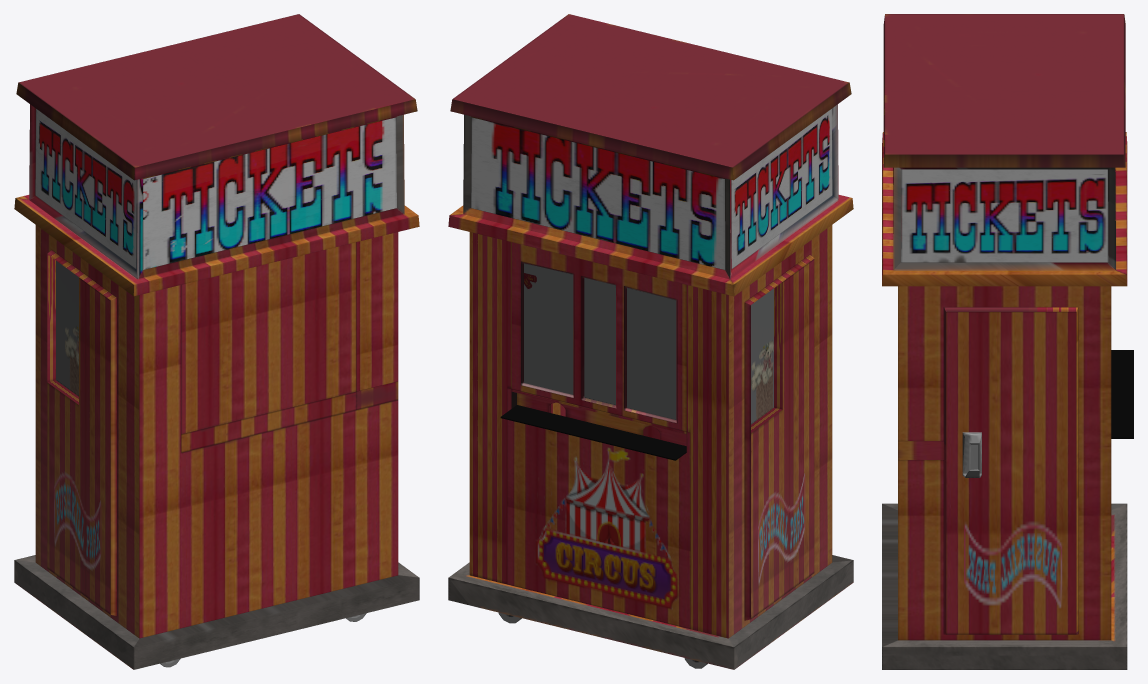
The model's file is ETC0210016.fbx.
3 views of the same model, side by side, from view 1: azimuth 30°, elevation 25°; view 2: azimuth 150°, elevation 25°; view 3: azimuth 270°, elevation 25° (orthographic). The views are drawn at different scales.
Parts seen in each view (by area): view 1: smETC0210016; view 2: smETC0210016; view 3: smETC0210016.
Boxes of the visible parts, x1,y1,x2,y2 form: smETC0210016: (14, 14, 419, 669); smETC0210016: (448, 14, 853, 669); smETC0210016: (882, 14, 1133, 669).
Bounding box in the file's own units: 181 × 310 × 133.
Materials: 1 (1 with a texture image).
